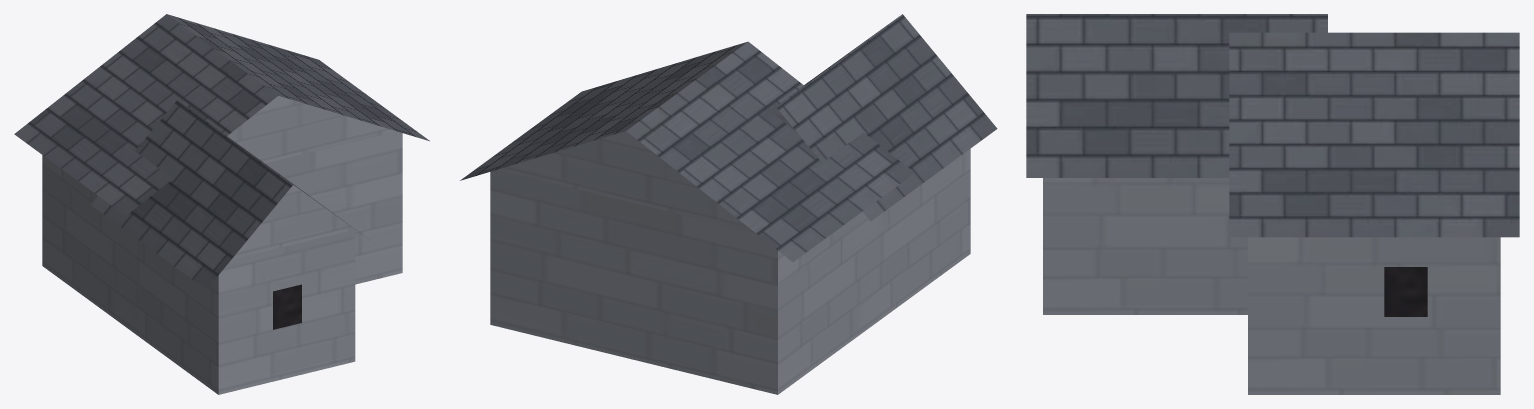
The model's file is ae_snow_stone_medium_court_lod2.glb.
The picture shows the model from 3 angles, left to right: view 1: azimuth 30°, elevation 25°; view 2: azimuth 150°, elevation 25°; view 3: azimuth 270°, elevation 25°; orthographic projection. The views are drawn at different scales.
Parts seen in each view (by area): view 1: ae_snow_stone_medium_court_lod2; view 2: ae_snow_stone_medium_court_lod2; view 3: ae_snow_stone_medium_court_lod2.
Part boxes in pixels (box(x1,y1,x2,y2)): ae_snow_stone_medium_court_lod2: box(14, 14, 429, 394); ae_snow_stone_medium_court_lod2: box(460, 14, 997, 394); ae_snow_stone_medium_court_lod2: box(1026, 14, 1519, 394).
Bounding box in the file's own units: 5.8 × 4.15 × 6.25.
1 material, 1 textured.
